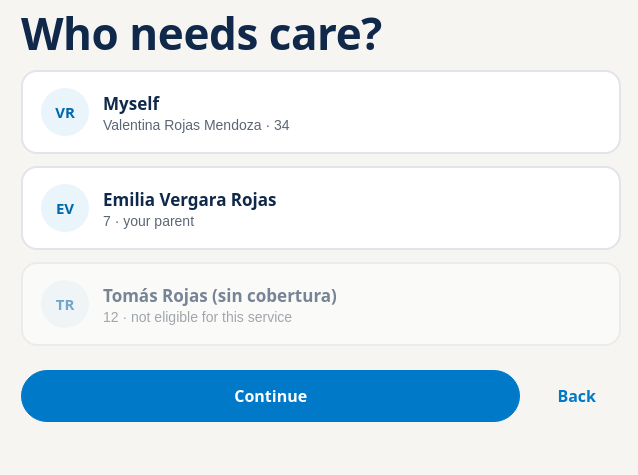
Scenario: P-03 Who needs care? › shows a selection-required message when continuing with no selection
Expected: the element named "Who needs care?" is shown, [21, 70, 621, 346]
Click the button "Continue" at (271,396), box [21, 370, 520, 422]
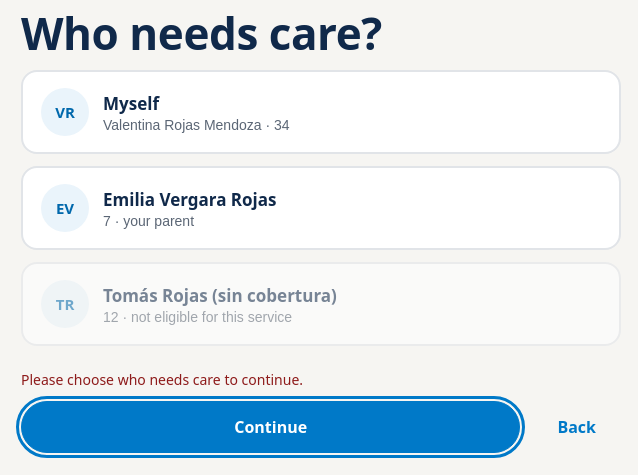
Expected: the message shows "choose who", [21, 370, 303, 389]
